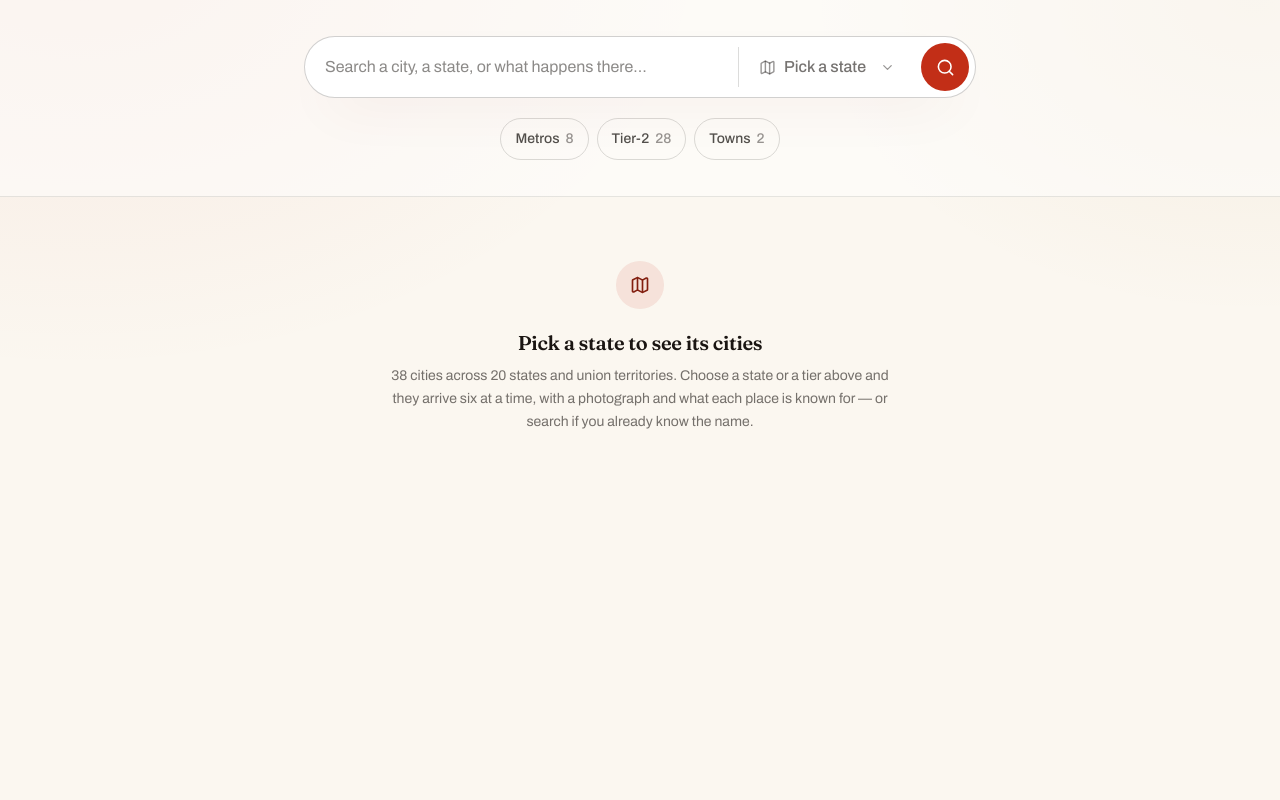
Test: CityExplorer › searches by state and by what happens there
Type "Karnataka" into the search field named "Search cities" at (522, 67), box [305,37,738,97]
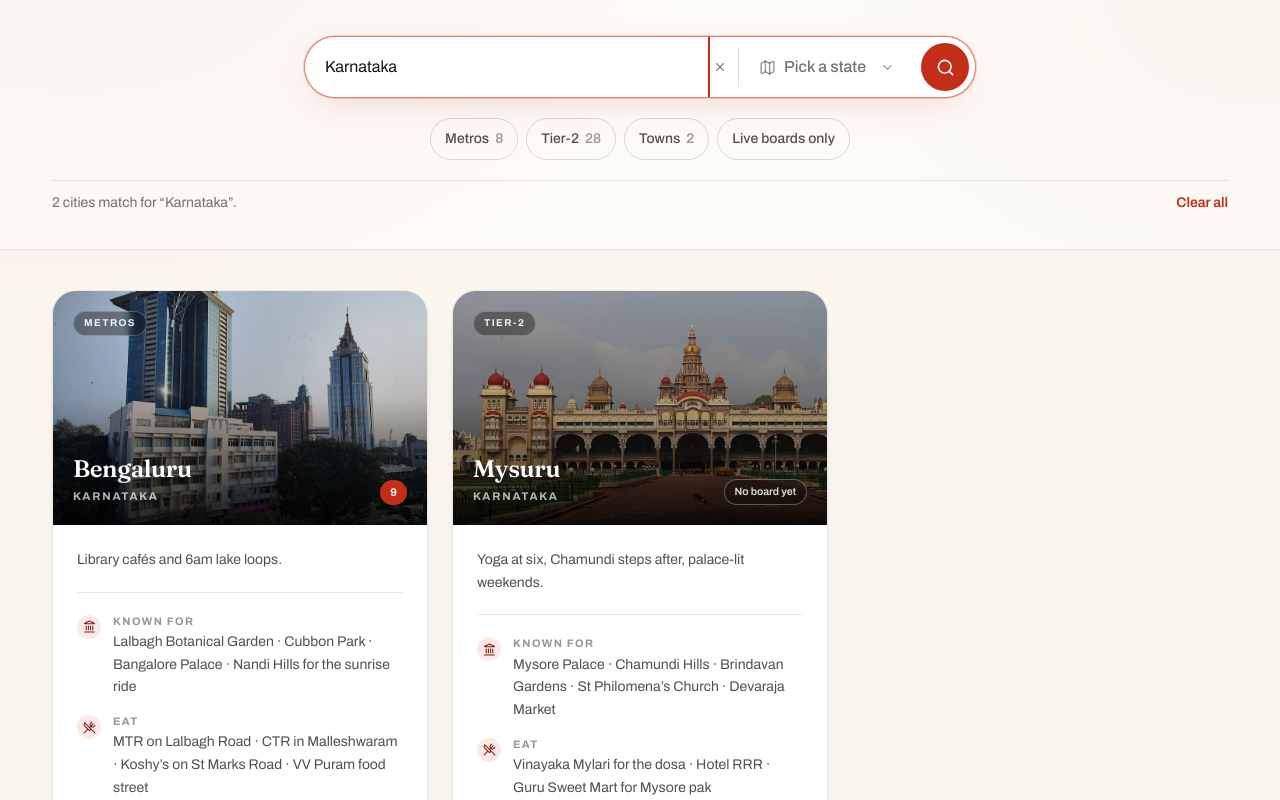
Now the heading "Bengaluru" is shown, box [73,454,192,484]
Clear the search field named "Search cities" at (506, 67), box [305,37,706,97]
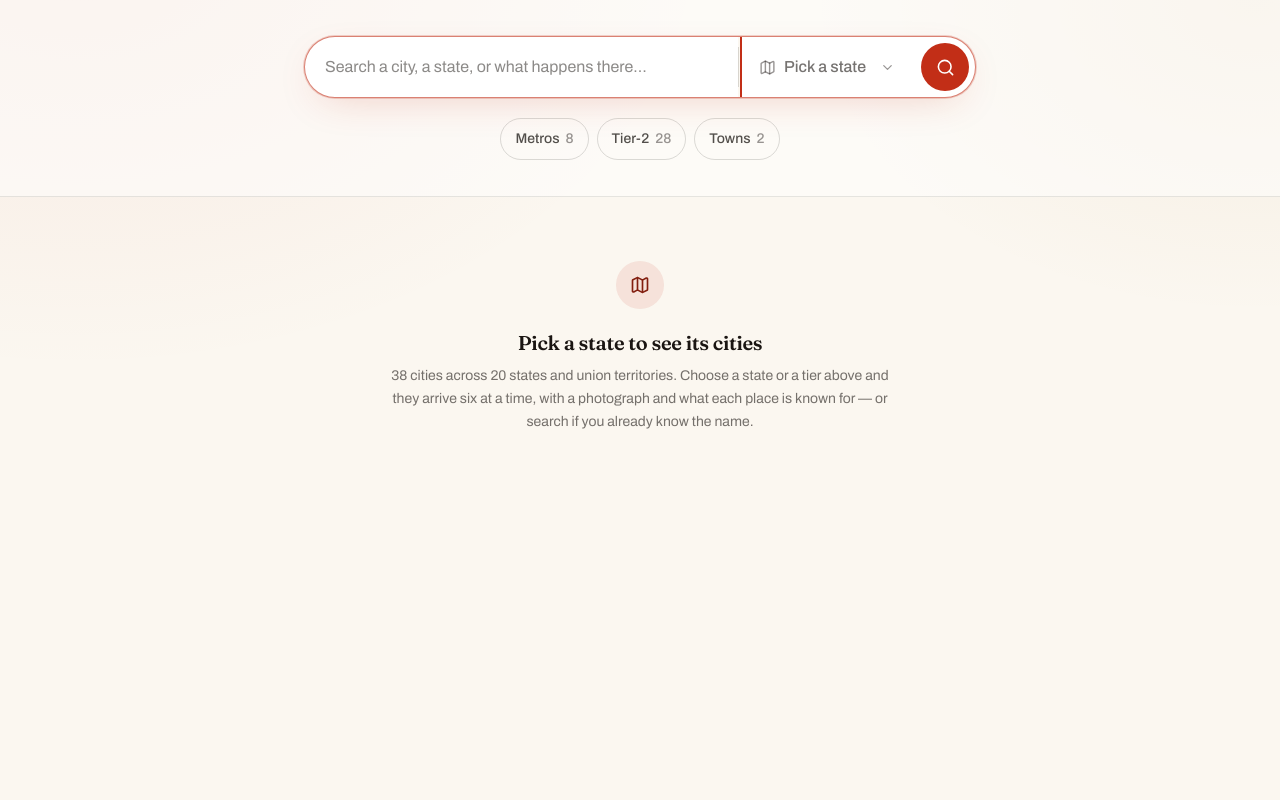
Type "badminton" into the search field named "Search cities" at (522, 67), box [305,37,738,97]
(page scrolled)
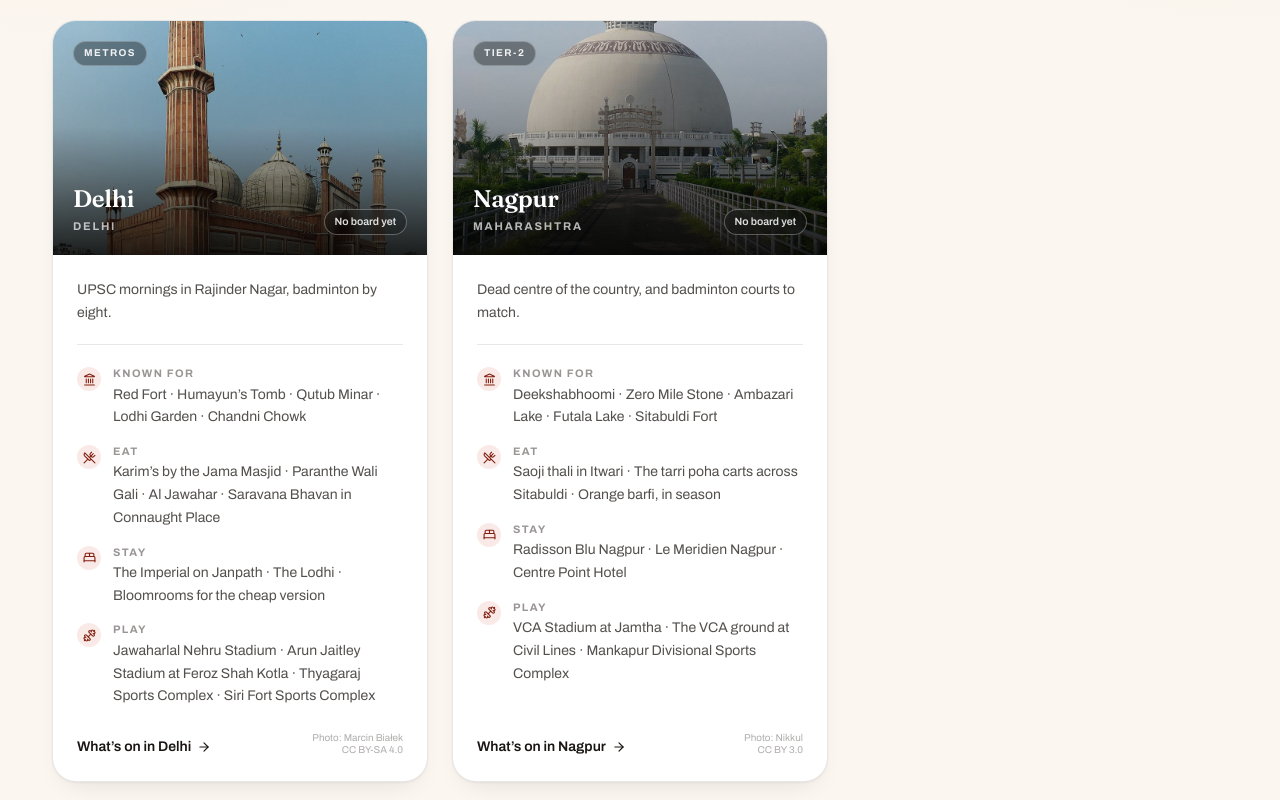
Now the element that starts with "Metros" shows "badminton", box [77,282,377,320]
